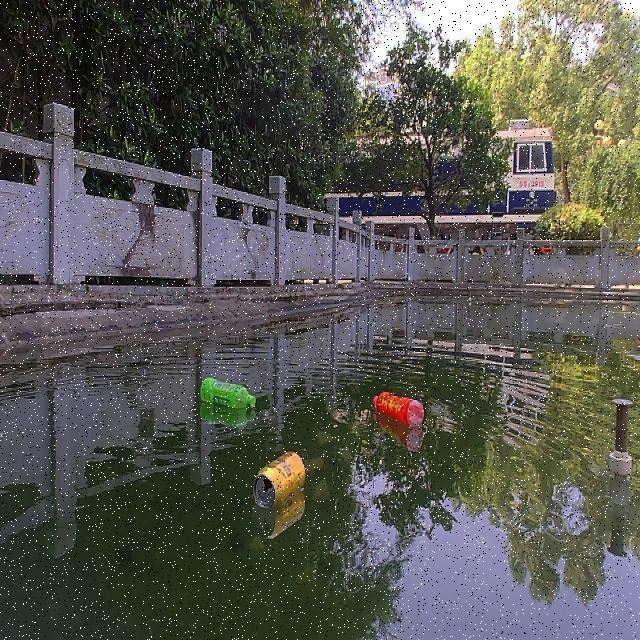bottle: (195, 372, 258, 411), (367, 387, 424, 429)
can: (248, 448, 307, 511)
